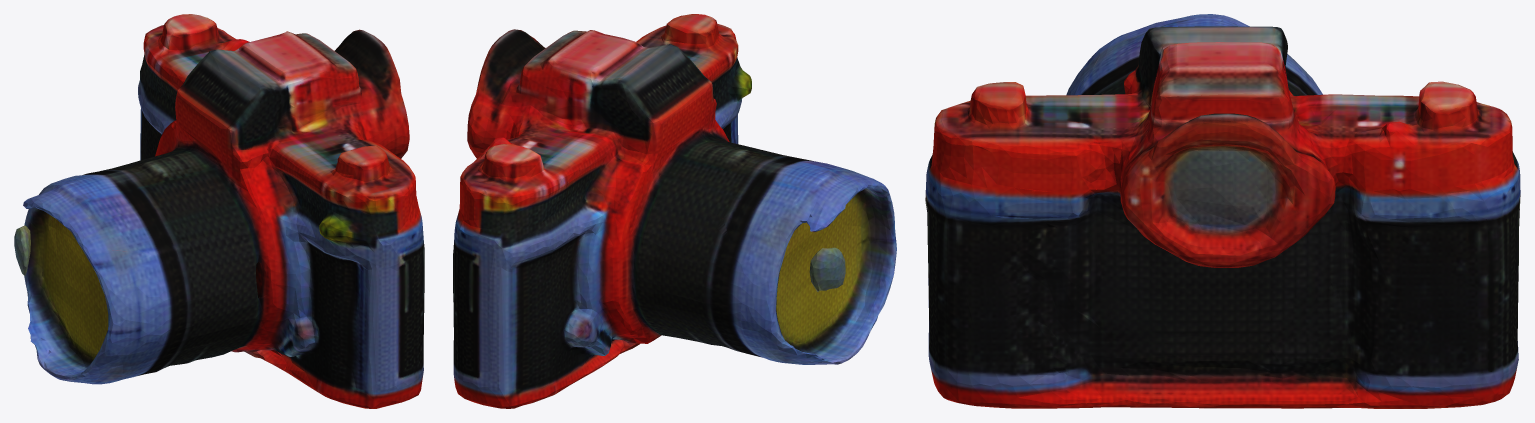
The picture shows the model from 3 angles, left to right: view 1: azimuth 30°, elevation 25°; view 2: azimuth 150°, elevation 25°; view 3: azimuth 270°, elevation 25°; orthographic projection. The views are drawn at different scales.
Parts seen in each view (by area): view 1: Mesh_0.009; view 2: Mesh_0.009; view 3: Mesh_0.009.
Part boxes in pixels (left/top/right/bottom): Mesh_0.009: left=14, top=14, right=424, bottom=408; Mesh_0.009: left=453, top=14, right=896, bottom=408; Mesh_0.009: left=925, top=14, right=1520, bottom=408.
Size of the model in its own units: 5.46 by 4.05 by 6.48.
Materials: 1 (1 with a texture image).
